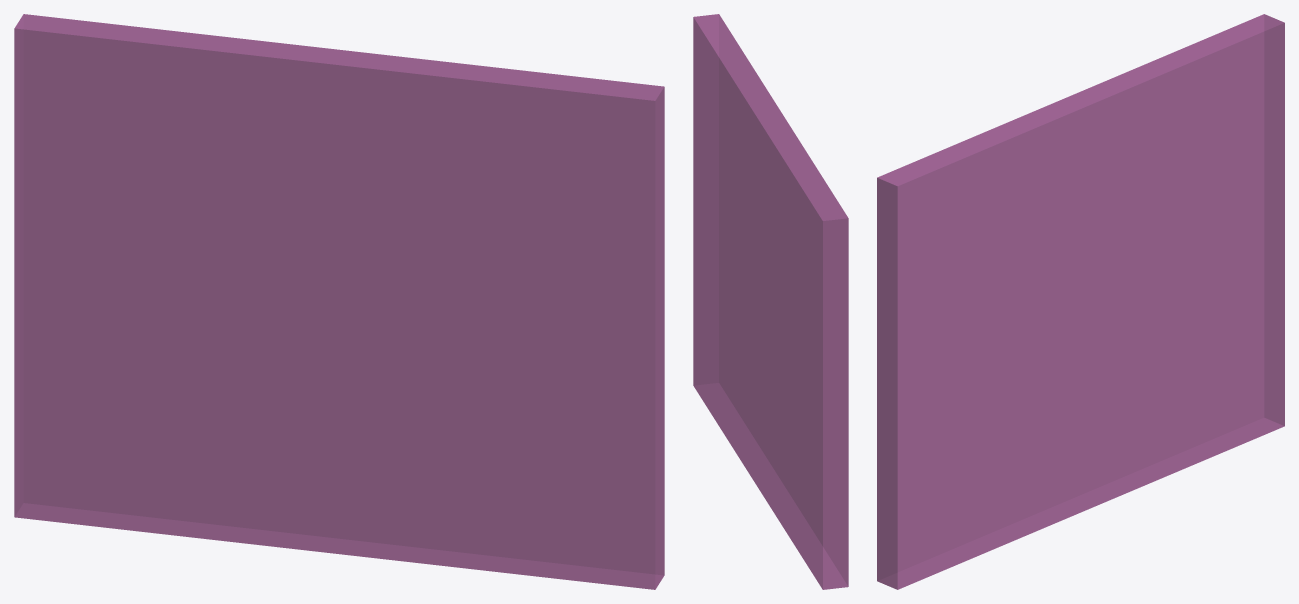
File: SM_Bld_Base_45_Wall_01_Collision.fbx
3 renders of one model, left to right at view 1: azimuth 30°, elevation 25°; view 2: azimuth 150°, elevation 25°; view 3: azimuth 270°, elevation 25°, orthographic. The views are drawn at different scales.
Parts seen in each view (by area): view 1: SM_Bld_Base_45_Wall_01_Collision; view 2: SM_Bld_Base_45_Wall_01_Collision; view 3: SM_Bld_Base_45_Wall_01_Collision.
Boxes of the visible parts, left/top/right/bottom form: SM_Bld_Base_45_Wall_01_Collision: left=14, top=14, right=664, bottom=589; SM_Bld_Base_45_Wall_01_Collision: left=693, top=14, right=848, bottom=589; SM_Bld_Base_45_Wall_01_Collision: left=877, top=14, right=1284, bottom=589.
Bounding box in the file's own units: 281 × 307 × 281.
